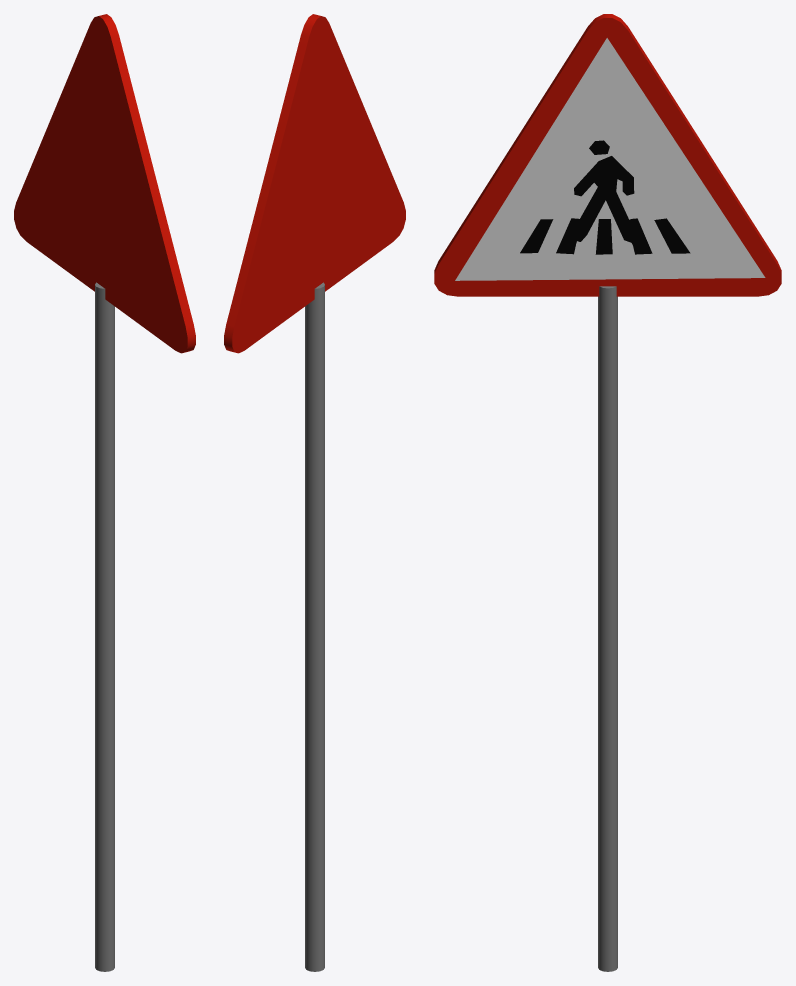
File: crosswalk_sign.fbx
The picture shows the model from 3 angles, left to right: view 1: azimuth 30°, elevation 25°; view 2: azimuth 150°, elevation 25°; view 3: azimuth 270°, elevation 25°; orthographic projection.
Visible parts, largest first — view 1: crosswalk sign; view 2: crosswalk sign; view 3: crosswalk sign.
Boxes of the visible parts, x1,y1,x2,y2 form: crosswalk sign: (14, 14, 195, 971); crosswalk sign: (224, 14, 405, 971); crosswalk sign: (434, 14, 781, 971).
Bounding box in the file's own units: 25.54 × 1333 × 441.
